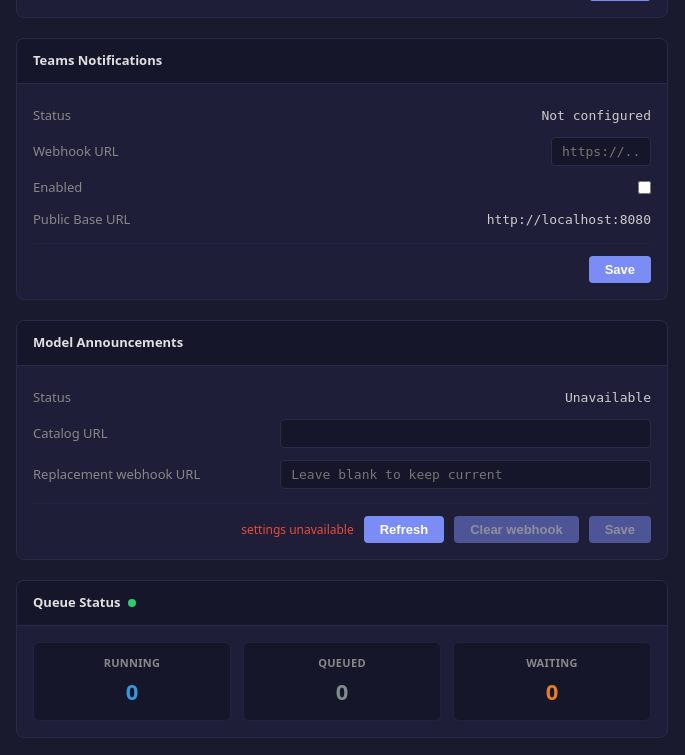
it: SettingsModelAnnouncements surfaces load and save faults without echoing secrets
(page scrolled)
Expected: the text "settings unavailable" is shown, [241,520,354,538]
Click the button "Refresh" at [404, 530], box [364,516,444,543]
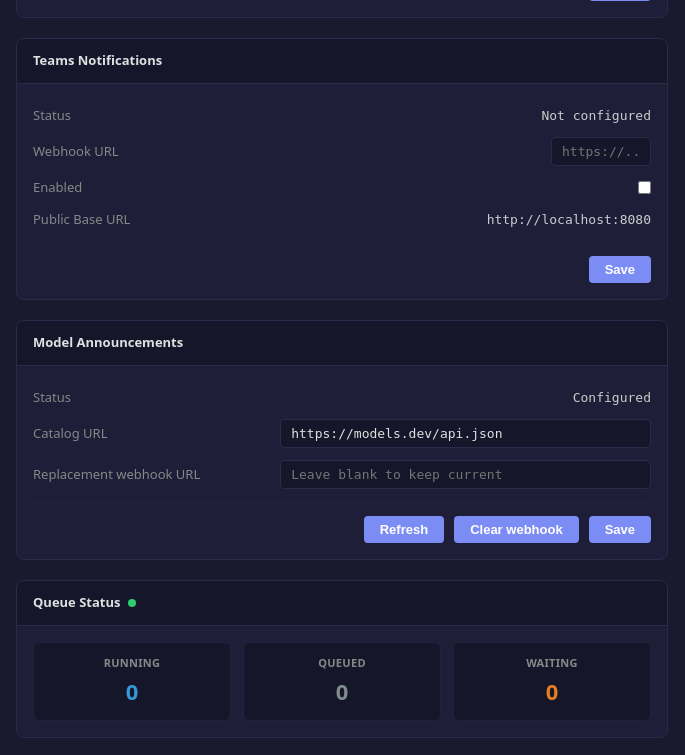
Expected: the text "Configured" is shown, [573,388,651,407]
Type "https://teams.example.test/hooks/test-secret" into the password field labelled "Replacement webhook URL" at [466, 474], box [280,460,651,489]
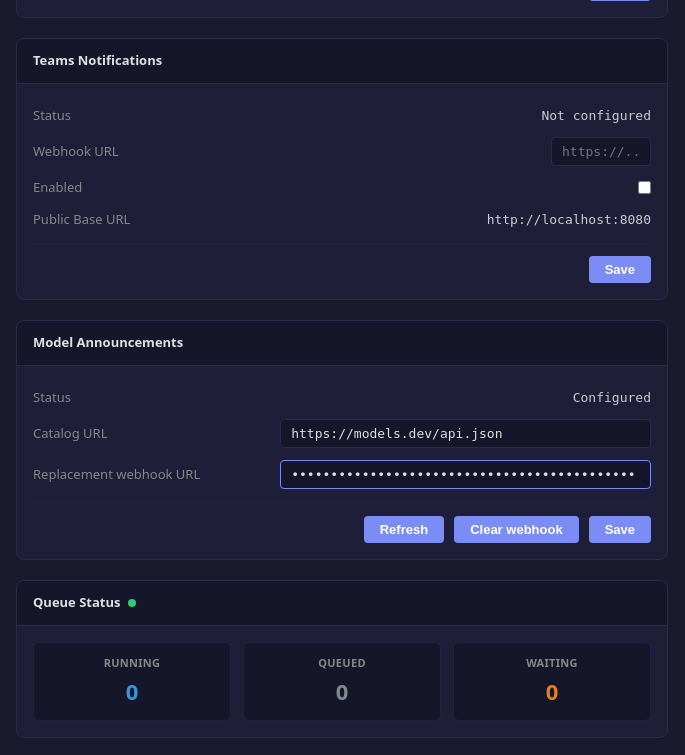
Click the 3rd button "Save" at [620, 530], box [589,516,651,543]
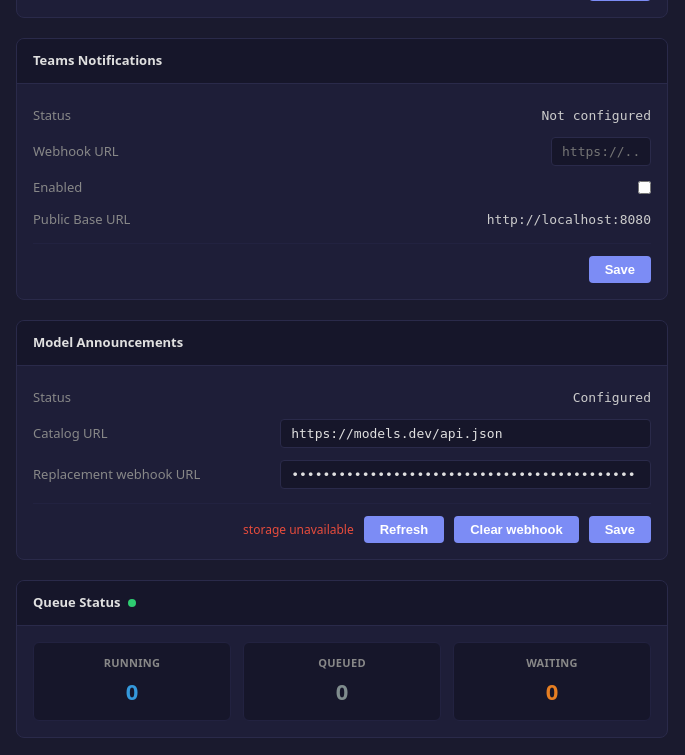
Expected: the text "storage unavailable" is shown, [243,520,354,538]
